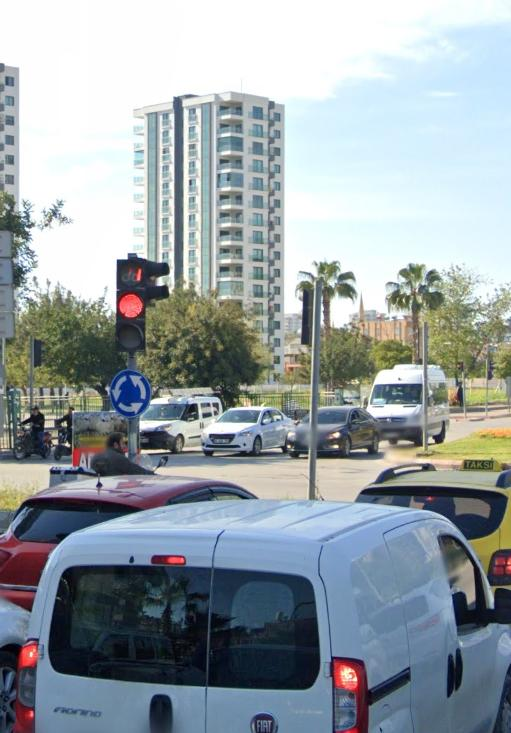crossroads: (111, 368, 152, 418)
redlight: (115, 259, 145, 353)
